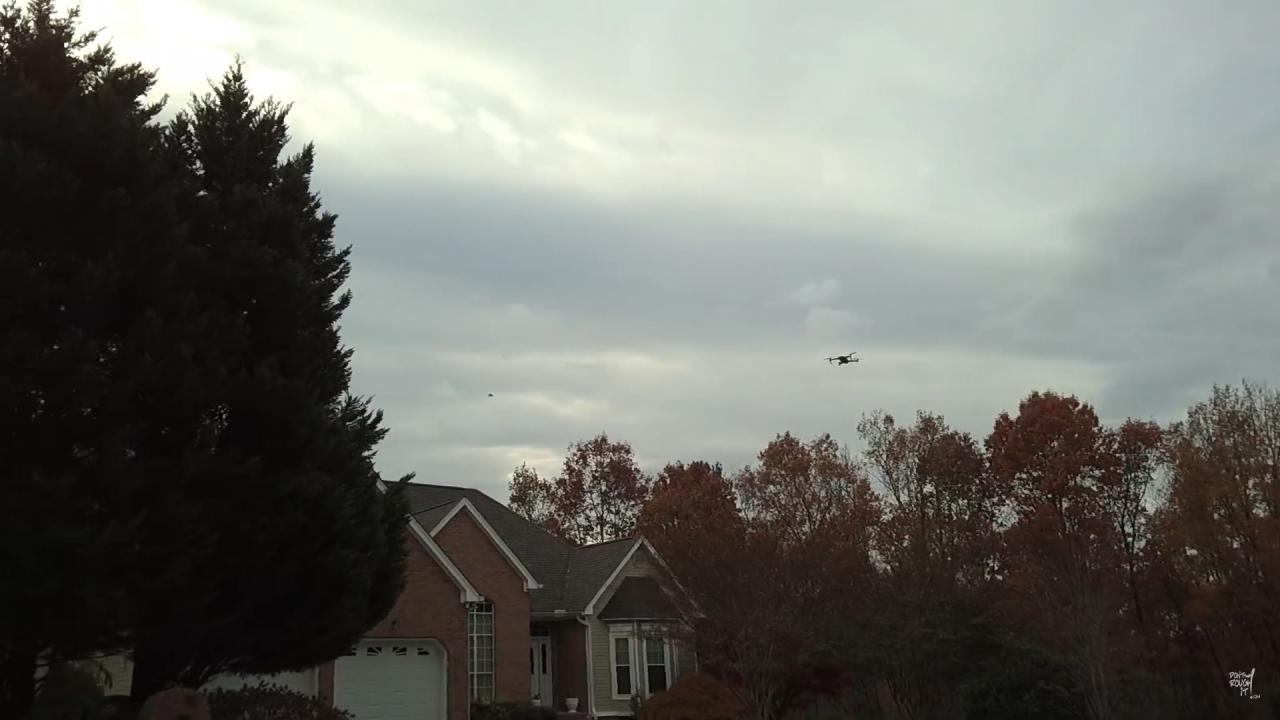Drone: (816, 340, 870, 379)
